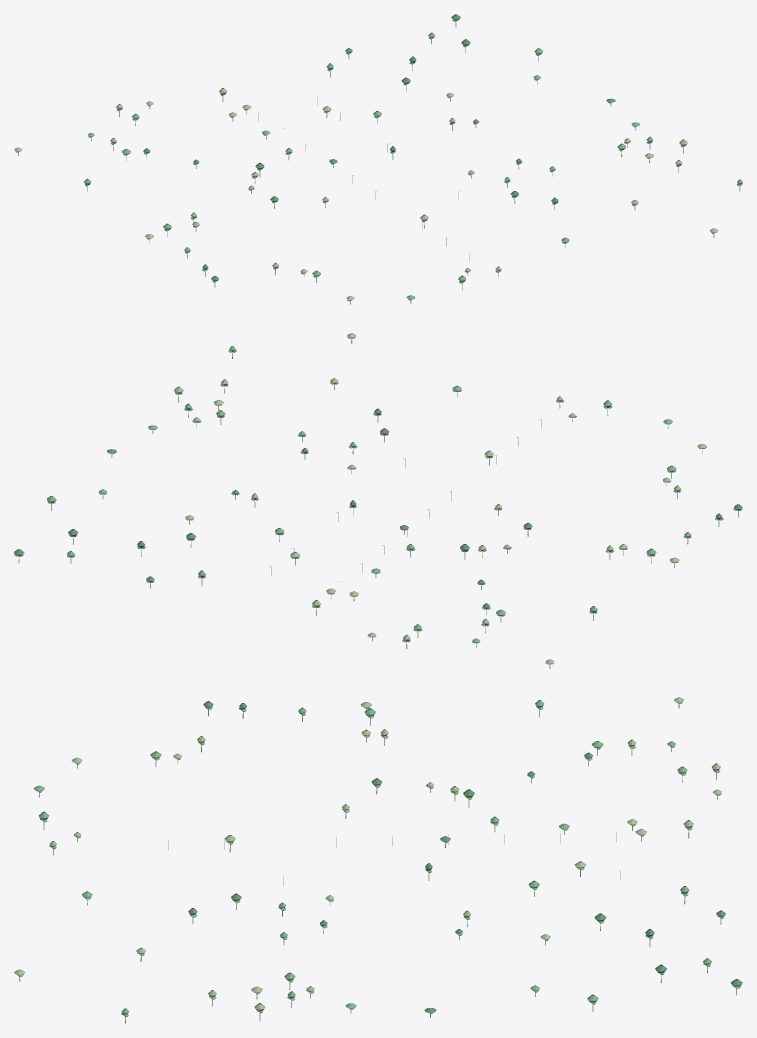
3 renders of one model, top to bottom at view 1: azimuth 30°, elevation 25°; view 2: azimuth 150°, elevation 25°; view 3: azimuth 270°, elevation 25°, orthographic. The views are drawn at different scales.
Visible parts, largest first — view 1: Bangladesh Secretariat neighborhood furniture (approximate); view 2: Bangladesh Secretariat neighborhood furniture (approximate); view 3: Bangladesh Secretariat neighborhood furniture (approximate).
Part boxes in pixels (<box>): Bangladesh Secretariat neighborhood furniture (approximate): <box>14,14,742,304</box>; Bangladesh Secretariat neighborhood furniture (approximate): <box>14,333,742,668</box>; Bangladesh Secretariat neighborhood furniture (approximate): <box>14,697,742,1023</box>.
Bounding box in the file's own units: 472 × 12.31 × 455.
